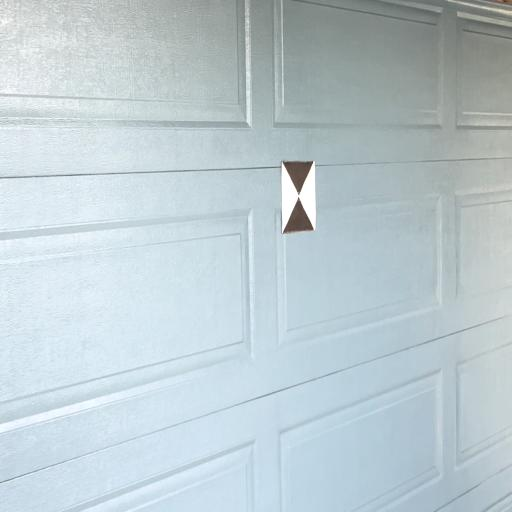target: (282, 161, 316, 232)
